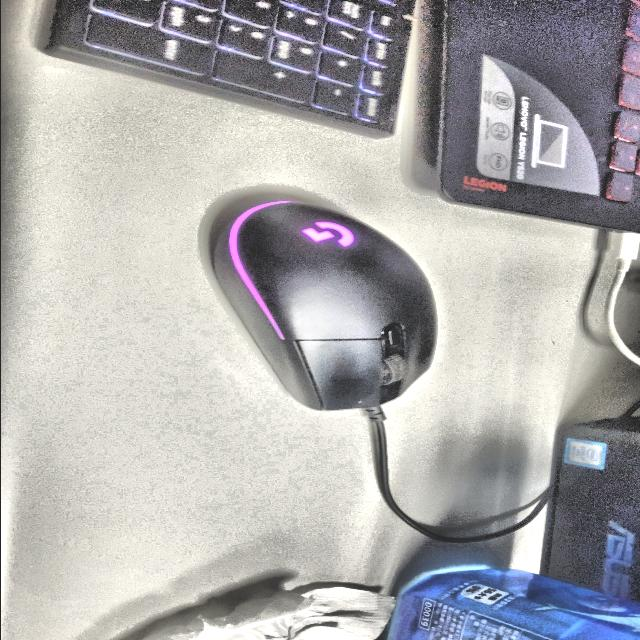laptop: (439, 0, 640, 233)
